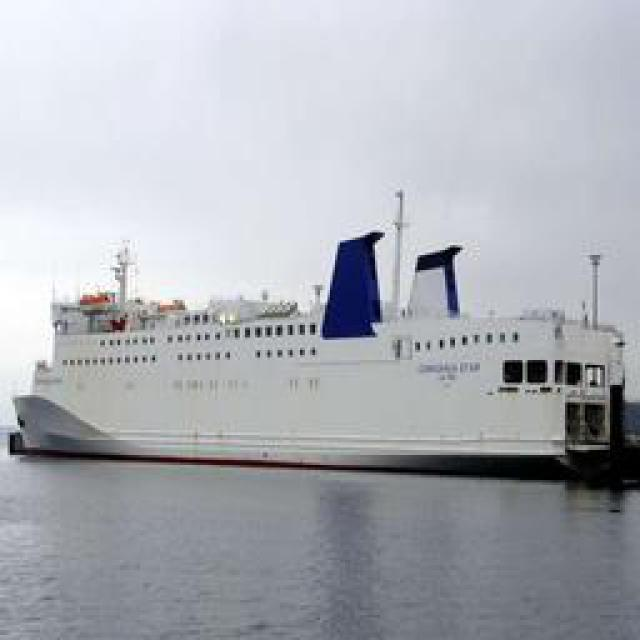Ship: (19, 214, 624, 474)
